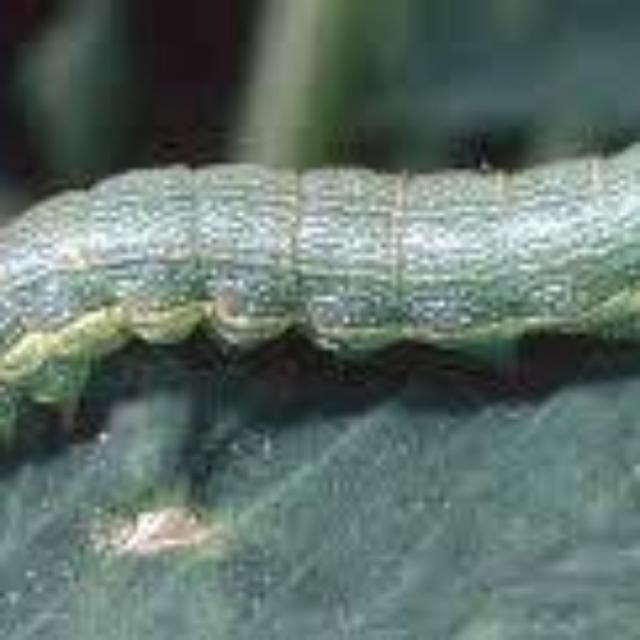armyworm: (1, 147, 640, 443)
